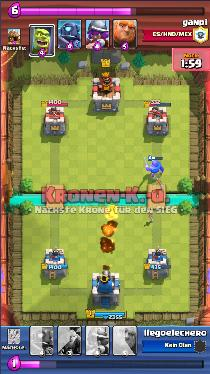ECannoneerTower: (104, 201, 121, 225)
EFirespirit: (145, 160, 165, 178)
